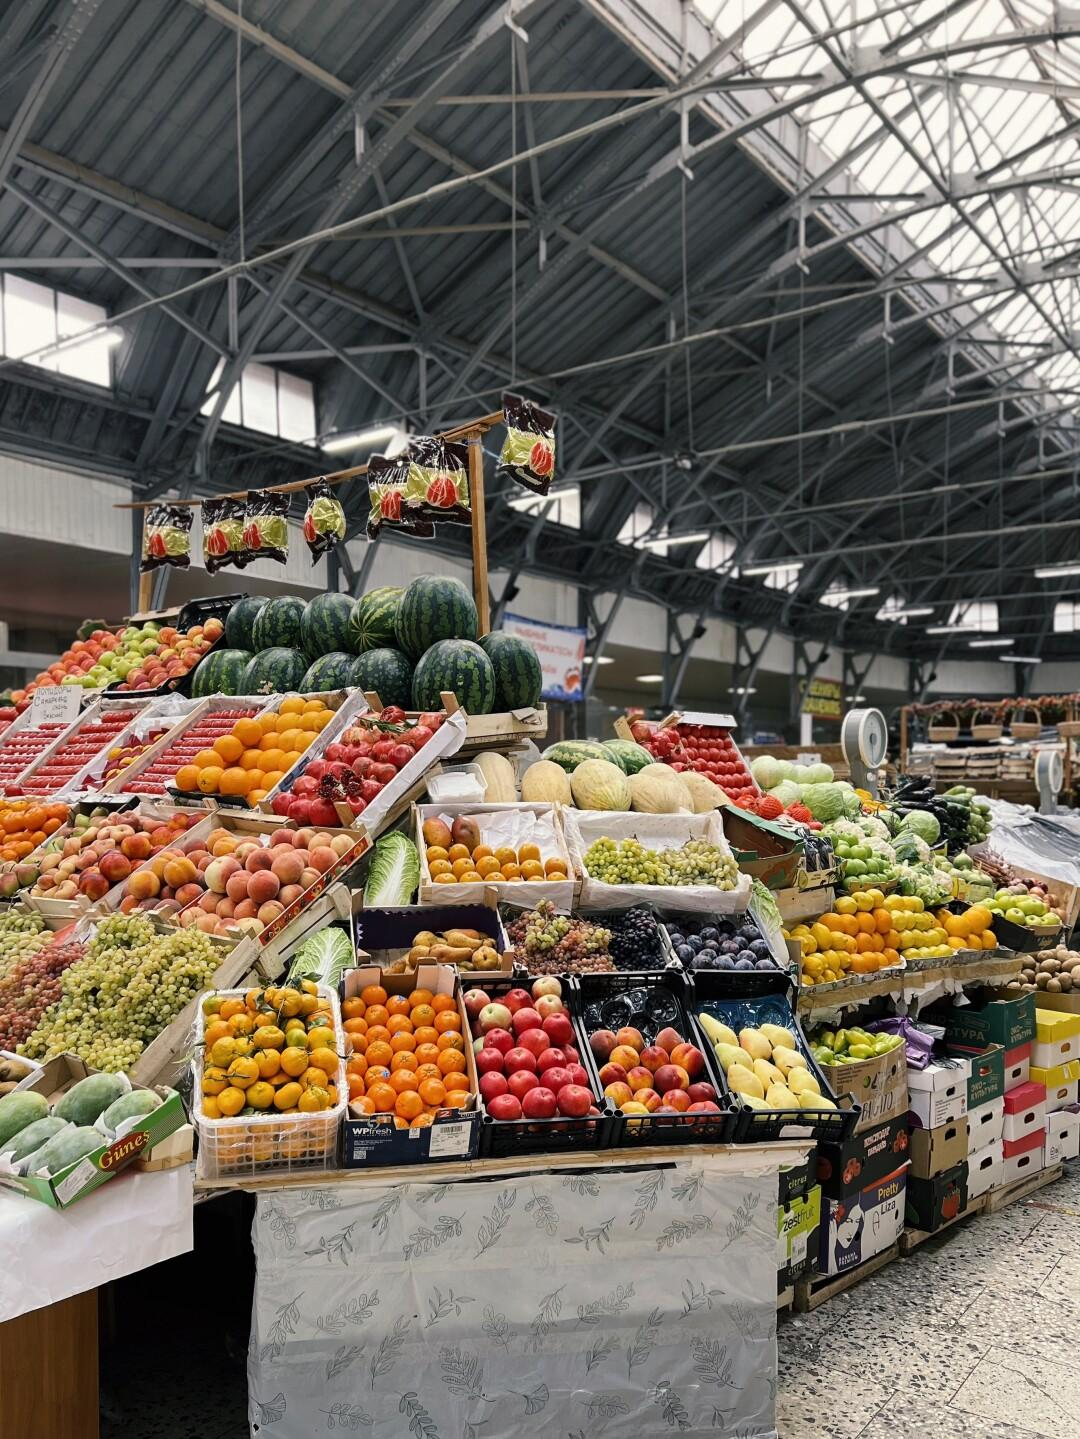cabbage: (754, 754, 861, 819), (827, 809, 946, 866)
grapes: (64, 913, 225, 1080), (587, 833, 740, 892), (0, 949, 85, 1049), (513, 898, 611, 979), (602, 907, 669, 975), (0, 907, 60, 977)
green apple: (64, 626, 162, 692), (973, 887, 1061, 932)
lemon: (781, 923, 853, 993)
mandarin: (199, 975, 339, 1134), (340, 984, 464, 1131), (423, 839, 573, 895), (0, 799, 64, 863)
melon: (471, 752, 734, 818)
orange: (179, 697, 347, 801), (837, 911, 900, 988), (945, 906, 1002, 955)
pear: (698, 1008, 852, 1132)
pomegranate: (282, 708, 448, 833)
red apple: (467, 985, 592, 1121), (15, 629, 117, 699), (130, 621, 217, 689)
tomato: (119, 705, 263, 794), (1, 714, 119, 789), (680, 727, 766, 802)
watermelon: (346, 577, 543, 714), (185, 598, 361, 696), (539, 738, 664, 773)
